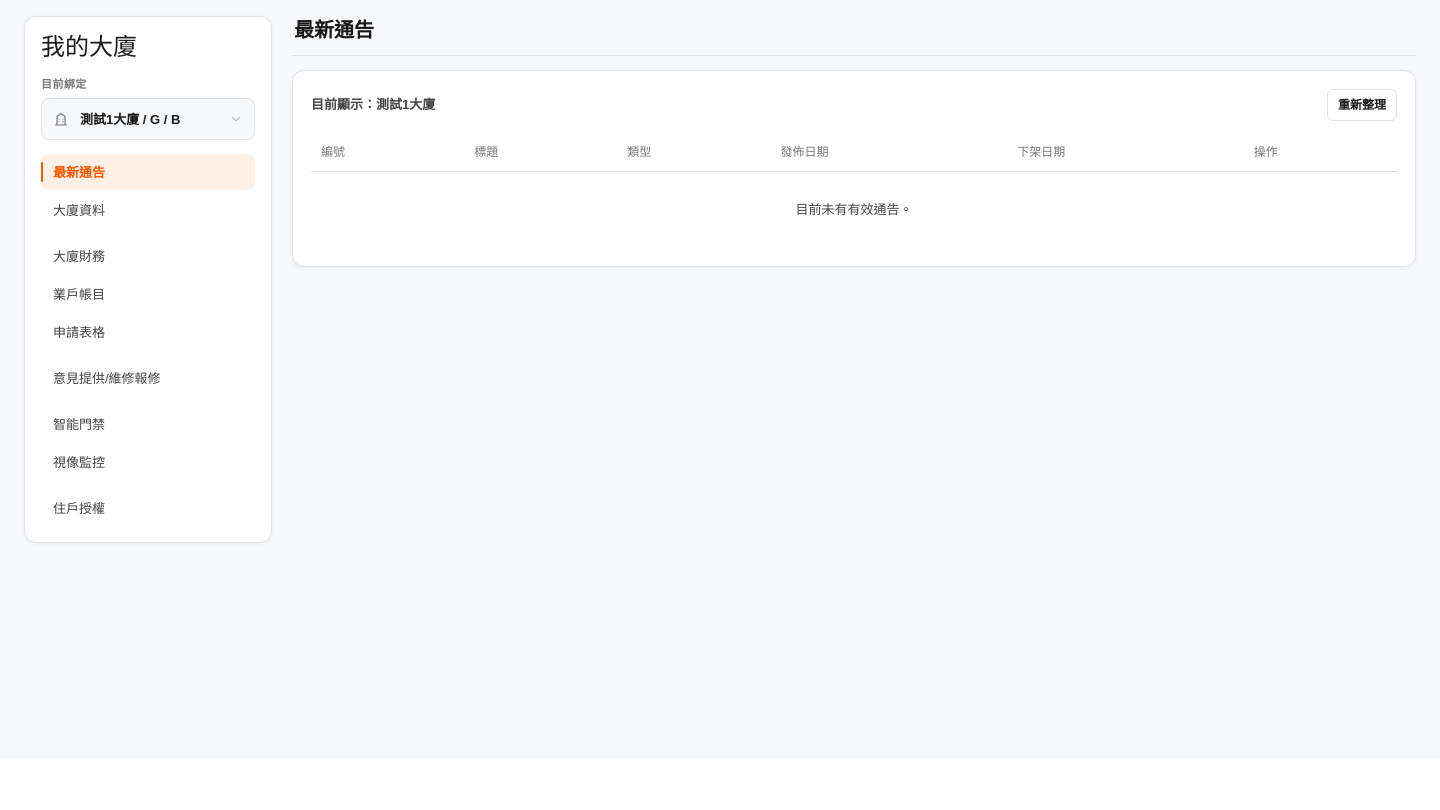
Test: BuildingPage binding refresh › loads and opens only the current member service cases
The image size is (1440, 810).
Click the button with class "work-nav-item" showing "意見提供/維修報修". click: (148, 378)
box: [41,360,255,396]
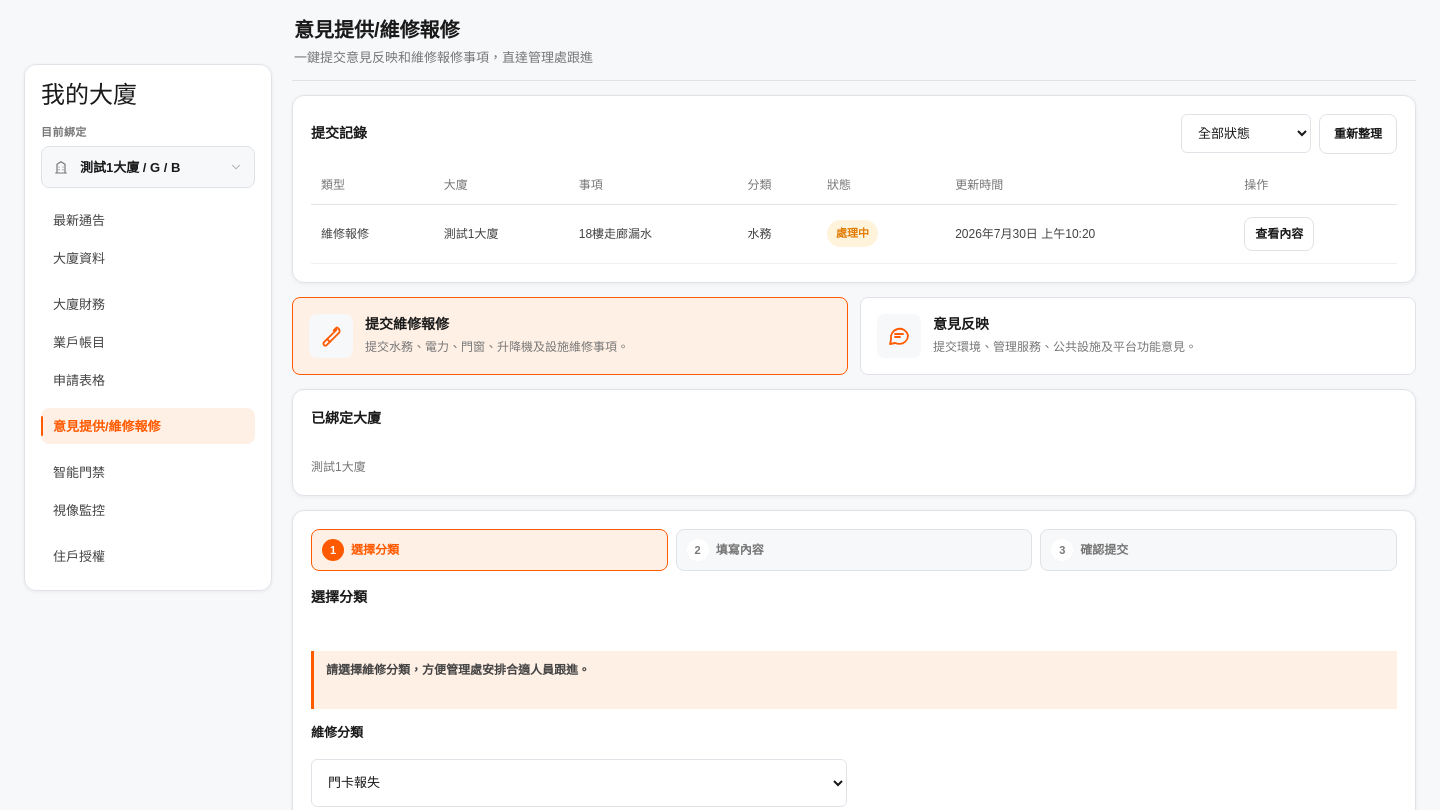
expect the text with class "work-desc" reads "一鍵提交意見反映和維修報修事項，直達管理處跟進": met, box [294,50,593,65]
expect the element that starts with "意見提供/維修報修" shows "提交記錄": met, box [311,125,367,141]
expect the text with class "work-card-title" reads "已綁定大廈": met, box [311,410,381,426]
Click the button with class "work-mini-btn". click: (1279, 234)
box: [1244,216,1314,250]
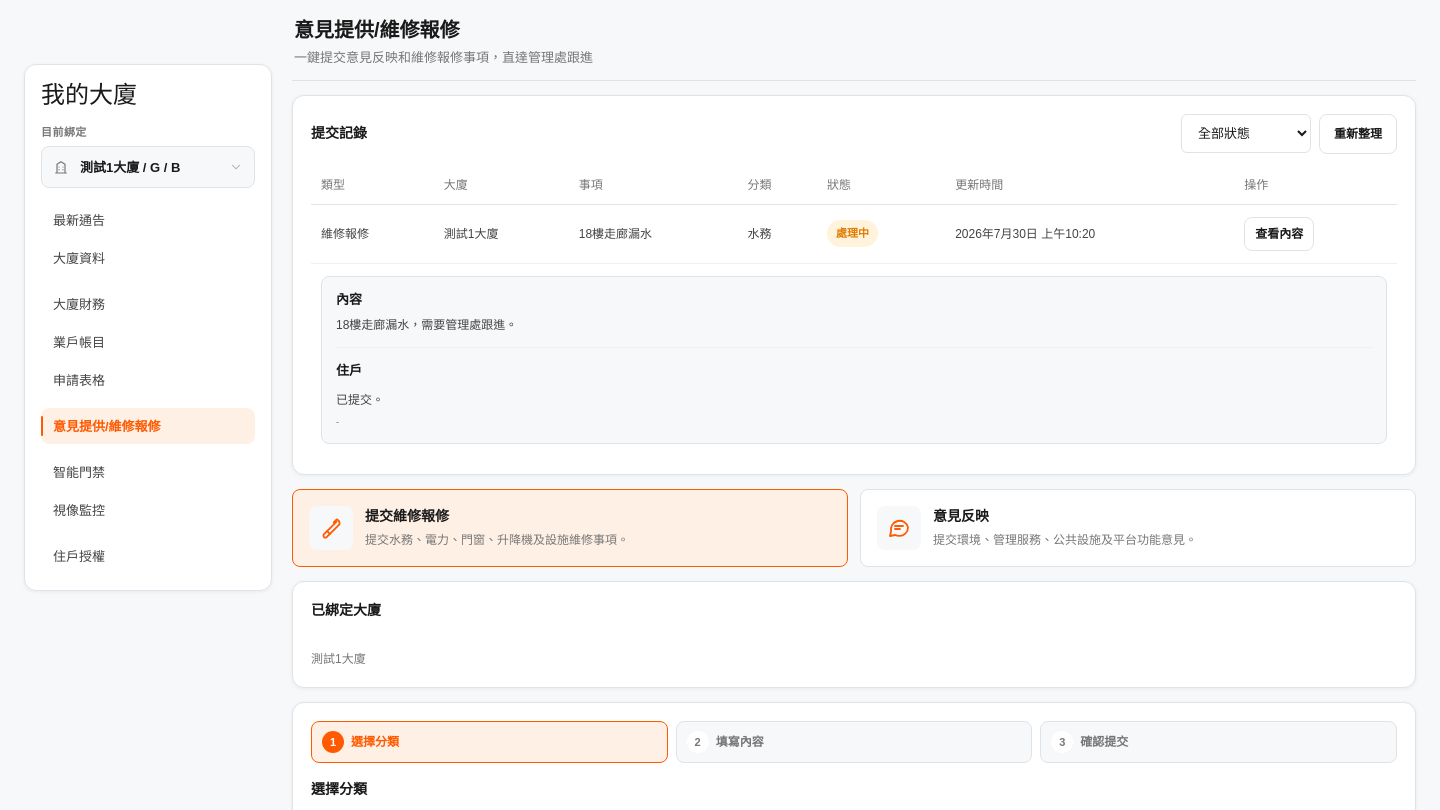
expect the text "需要管理處跟進" is shown: met, box [336,318,517,332]
